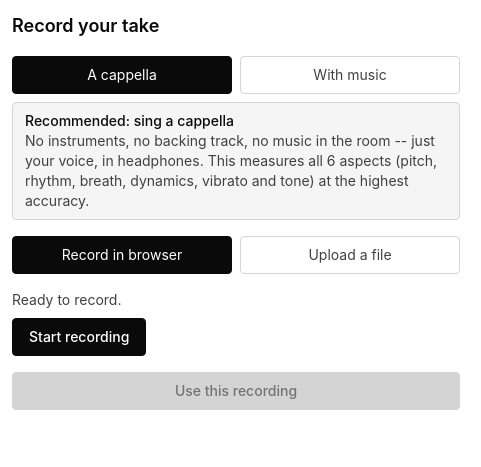
Test: RecordingCapture › switches the explanation when mixed mode is chosen
Click the radio button labelled "With music" at [350, 75], box x1=240 y1=56 x2=460 y2=94
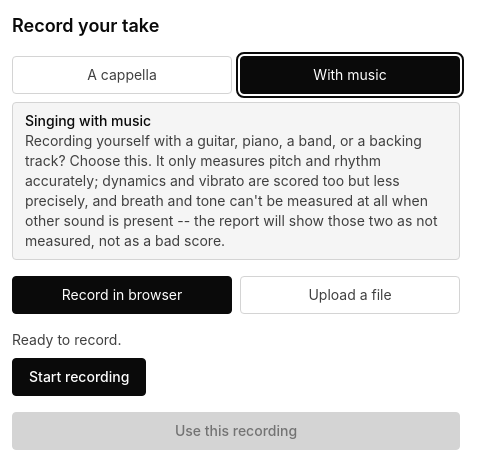
Result: the radio button labelled "With music" is checked at x1=240 y1=56 x2=460 y2=94
Result: the text "Singing with music" is shown at x1=25 y1=112 x2=151 y2=129
Result: the text "Recommended: sing a cappella" is gone
